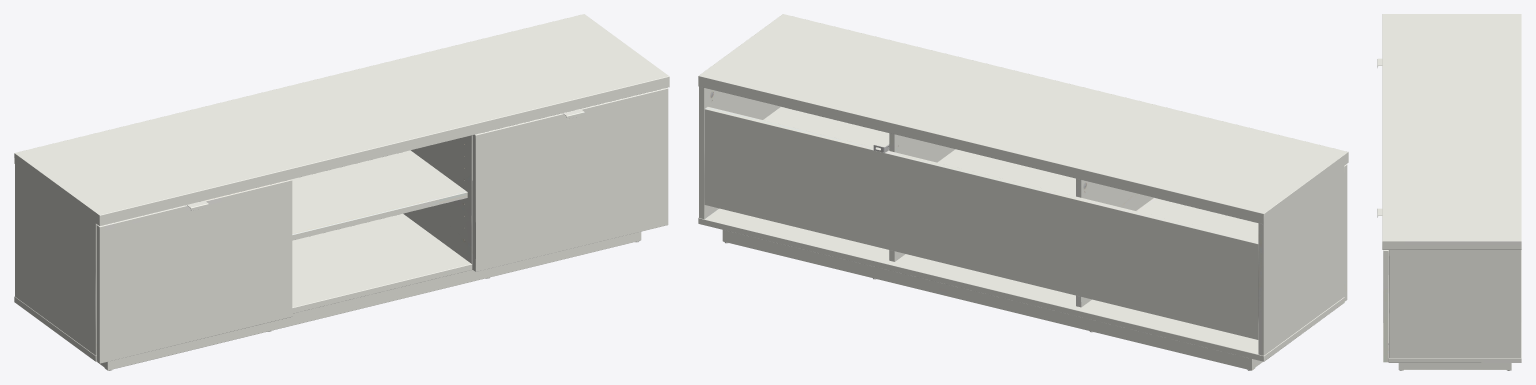
File: byas_szafka_pod_tv_80227797.glb
3 views of the same model, side by side, from view 1: azimuth 30°, elevation 25°; view 2: azimuth 150°, elevation 25°; view 3: azimuth 270°, elevation 25° (orthographic). The views are drawn at different scales.
Parts seen in each view (by area): view 1: byas_szafka_pod_tv_80227797; view 2: byas_szafka_pod_tv_80227797; view 3: byas_szafka_pod_tv_80227797.
Boxes of the visible parts, x1,y1,x2,y2 form: byas_szafka_pod_tv_80227797: (14,14,669,370); byas_szafka_pod_tv_80227797: (698,14,1348,370); byas_szafka_pod_tv_80227797: (1377,14,1521,370).
Bounding box in the file's own units: 1.6 × 0.451 × 0.43.
Materials: 2 (2 with a texture image).
